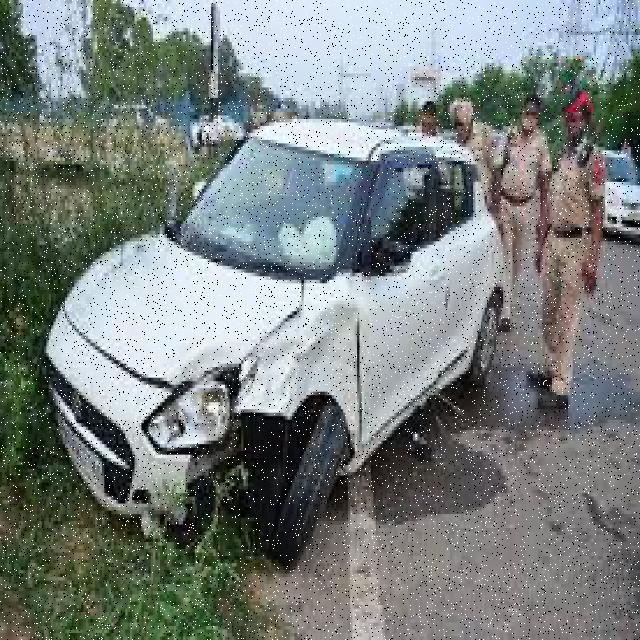fender-dent: (240, 352, 363, 506)
front-bumper-dent: (49, 357, 239, 546)
